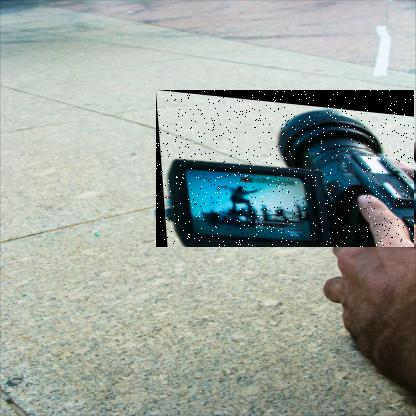Camera: (157, 92, 416, 250)
